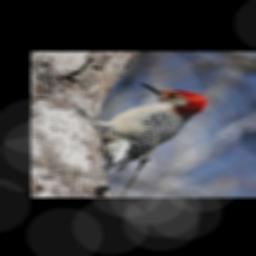Woodpecker: (60, 81, 214, 176)
